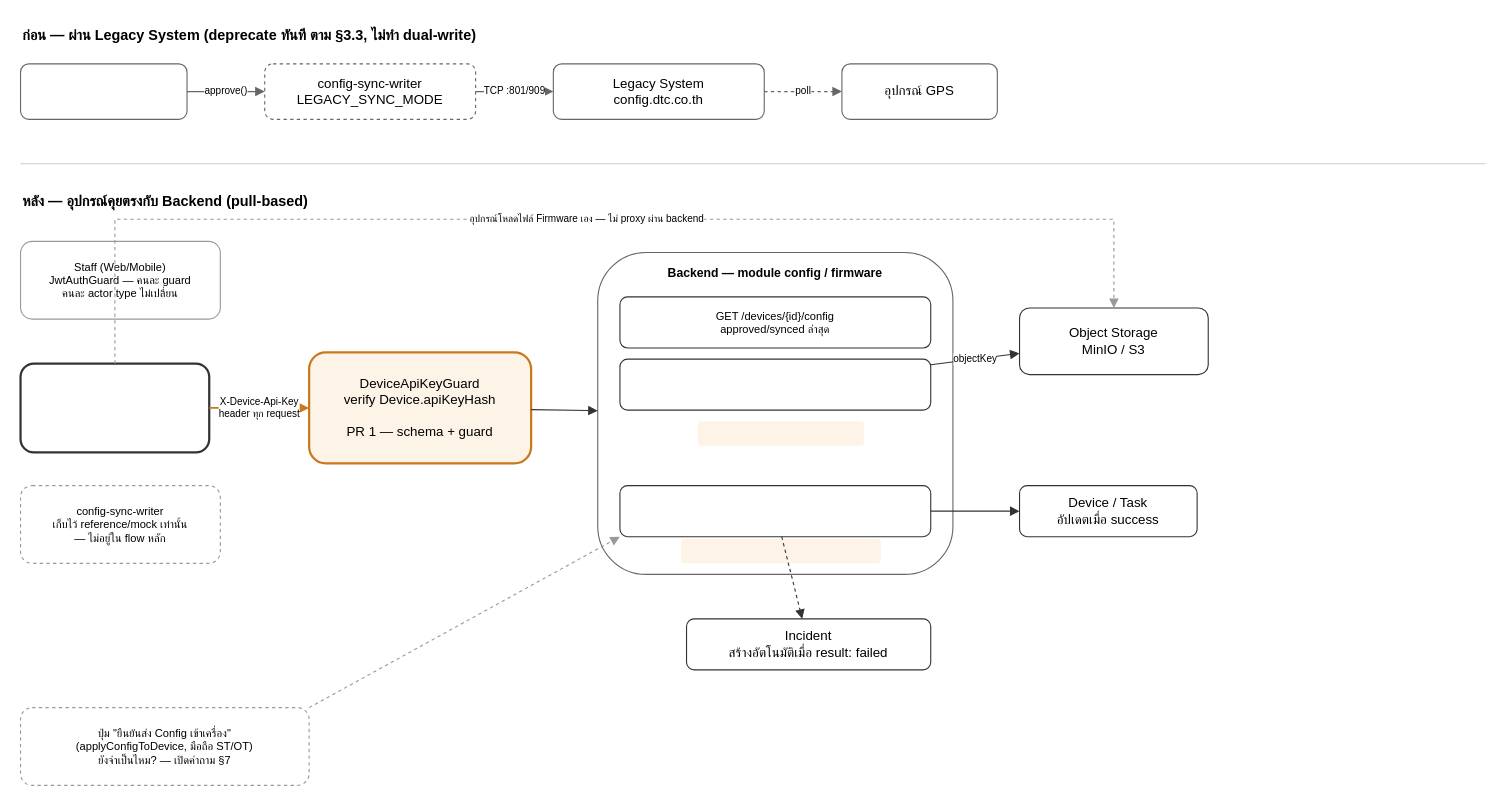
The diagram is 1506 pixels wide and 805 high, and some of its shapes have lost their labels. Here are the shapes that lost their labels. From the top down, the centre of each, then its label:
At (103,91): "Backend".
At (775,384): "GET /devices/{id}/firmware stored + approved ล่าสุด".
At (114,407): "อุปกรณ์ GPS ดึงตอนเปิดเครื่อง (§4.2)".
At (780,433): "PR 2 — pull endpoints".
At (775,511): "POST /devices/{id}/sync-status อุปกรณ์รายงานผล apply".
At (780,550): "PR 3 — status report + cutover".
